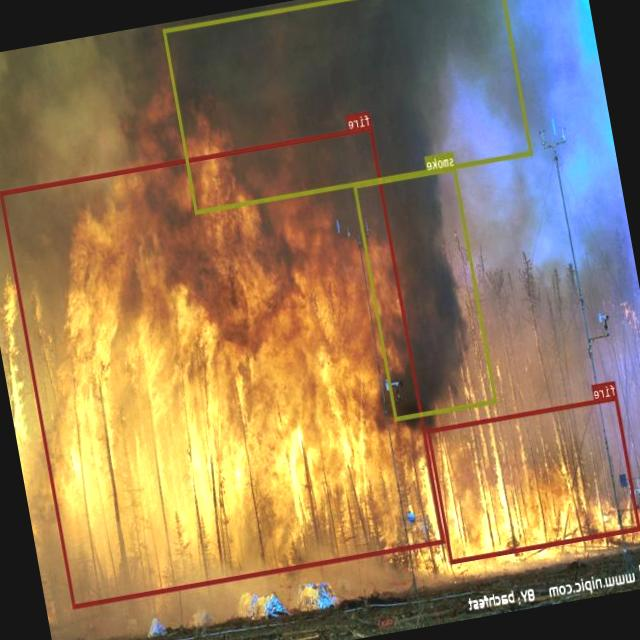fire: (0, 125, 445, 607), (426, 395, 640, 563)
smoke: (162, 0, 532, 213), (353, 166, 498, 420)
